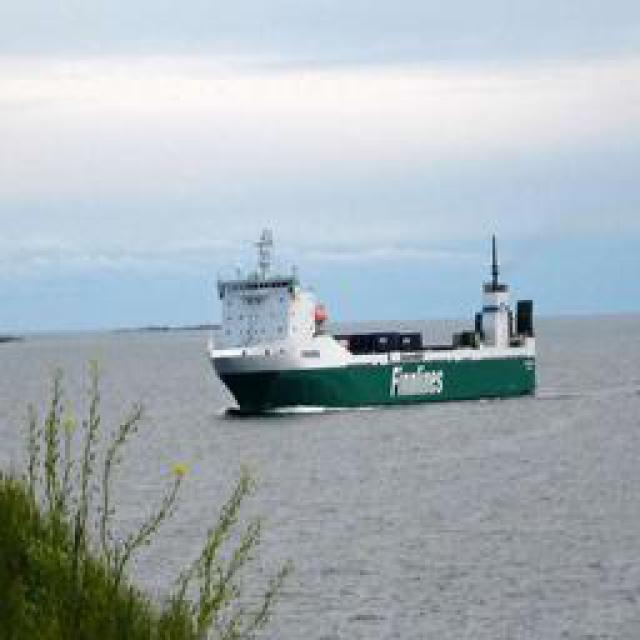Ship: (208, 220, 536, 415)
